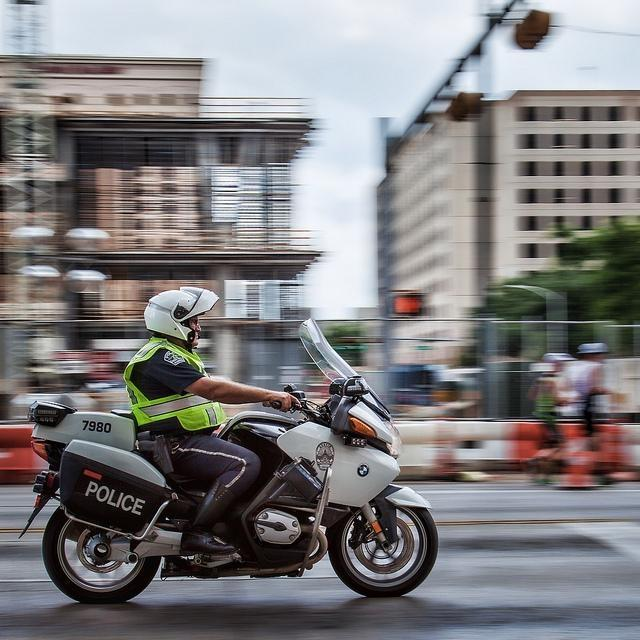motorcycle: (15, 314, 439, 608)
